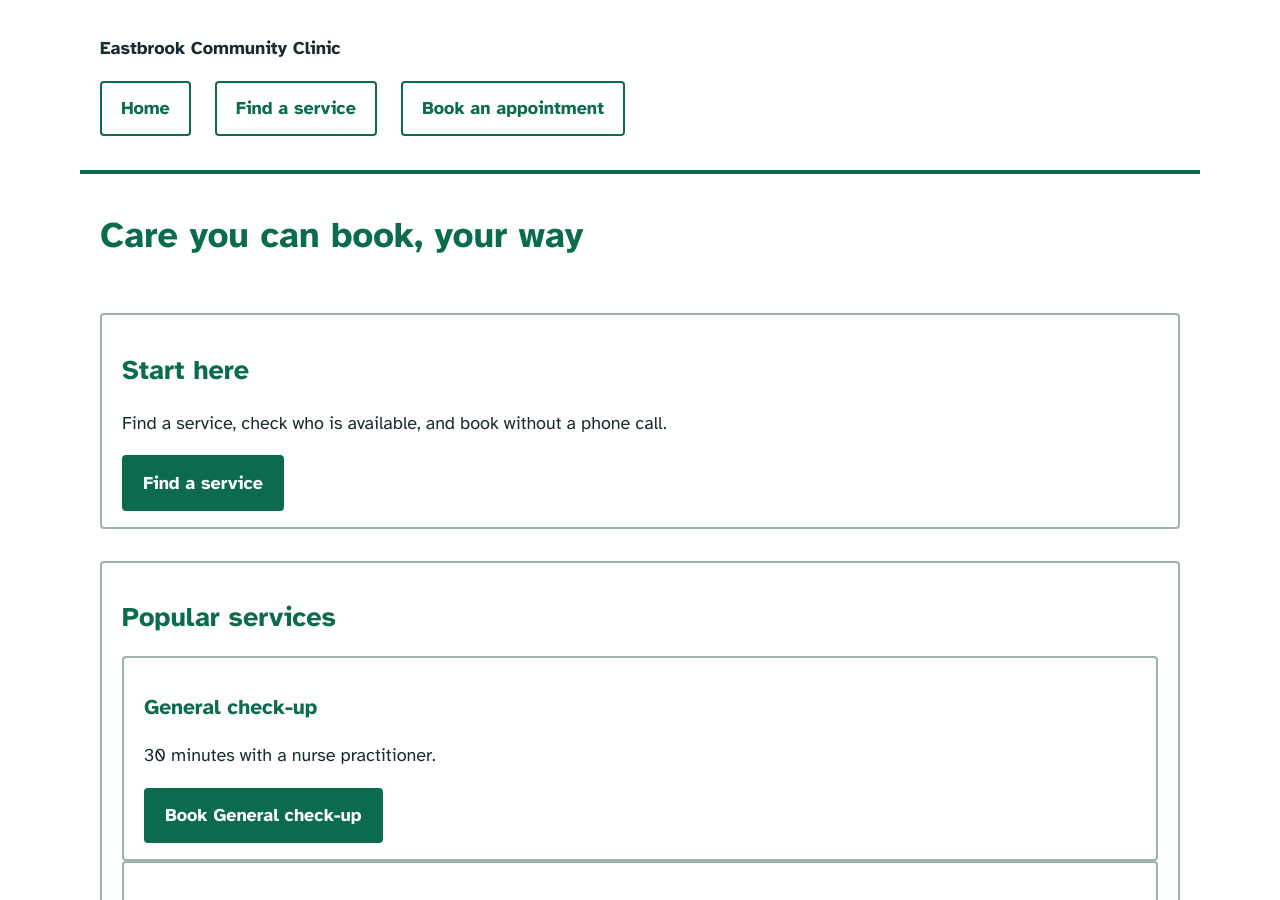
Test: directory › search narrows results and announces the count
Step 1. Click the button "Find a service" below "Eastbrook Community Clinic" → (296, 108), box [215,81,377,136]
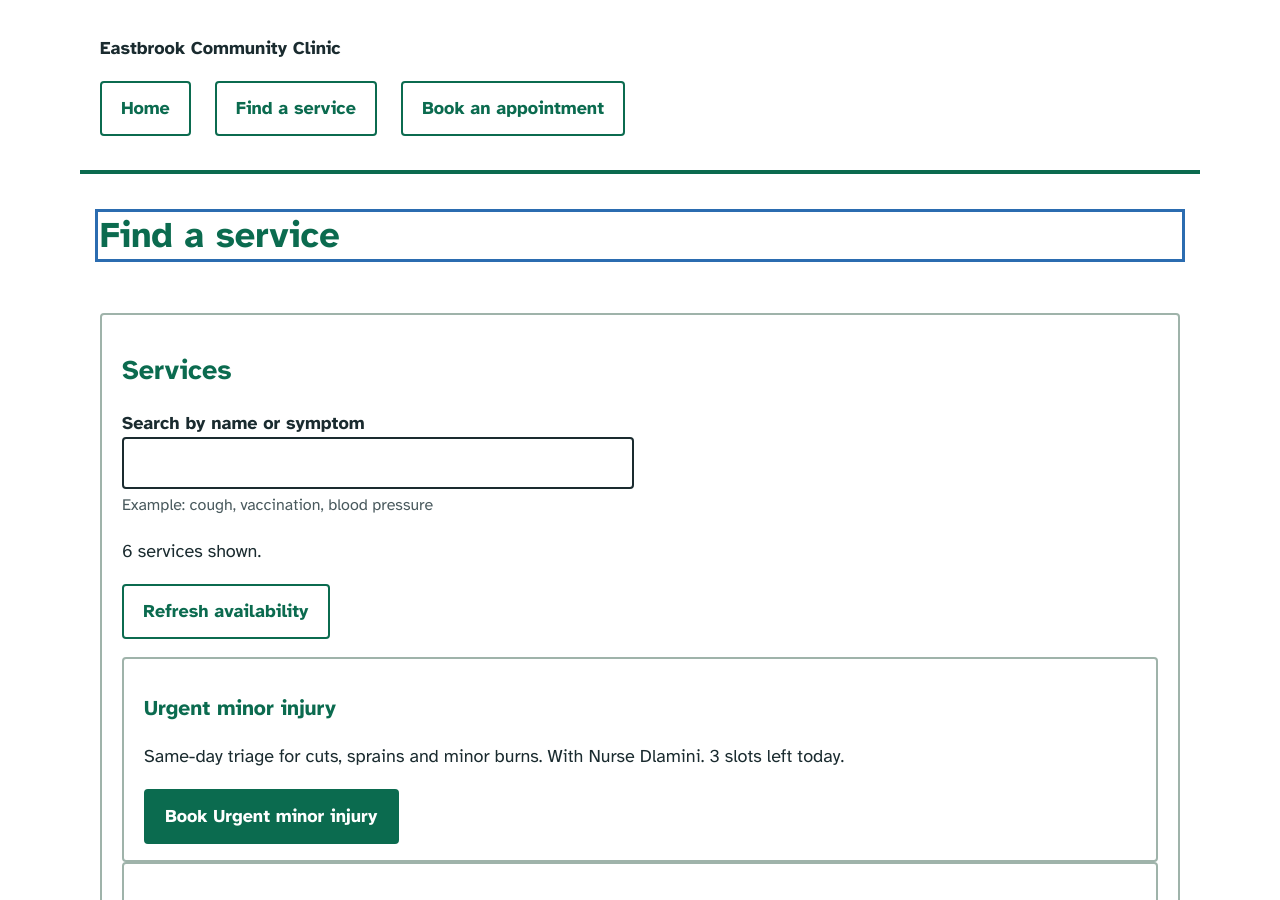
Step 2. Type "nurse" into the search field labelled "Search by name or symptom" → (378, 463), box [122,437,634,489]
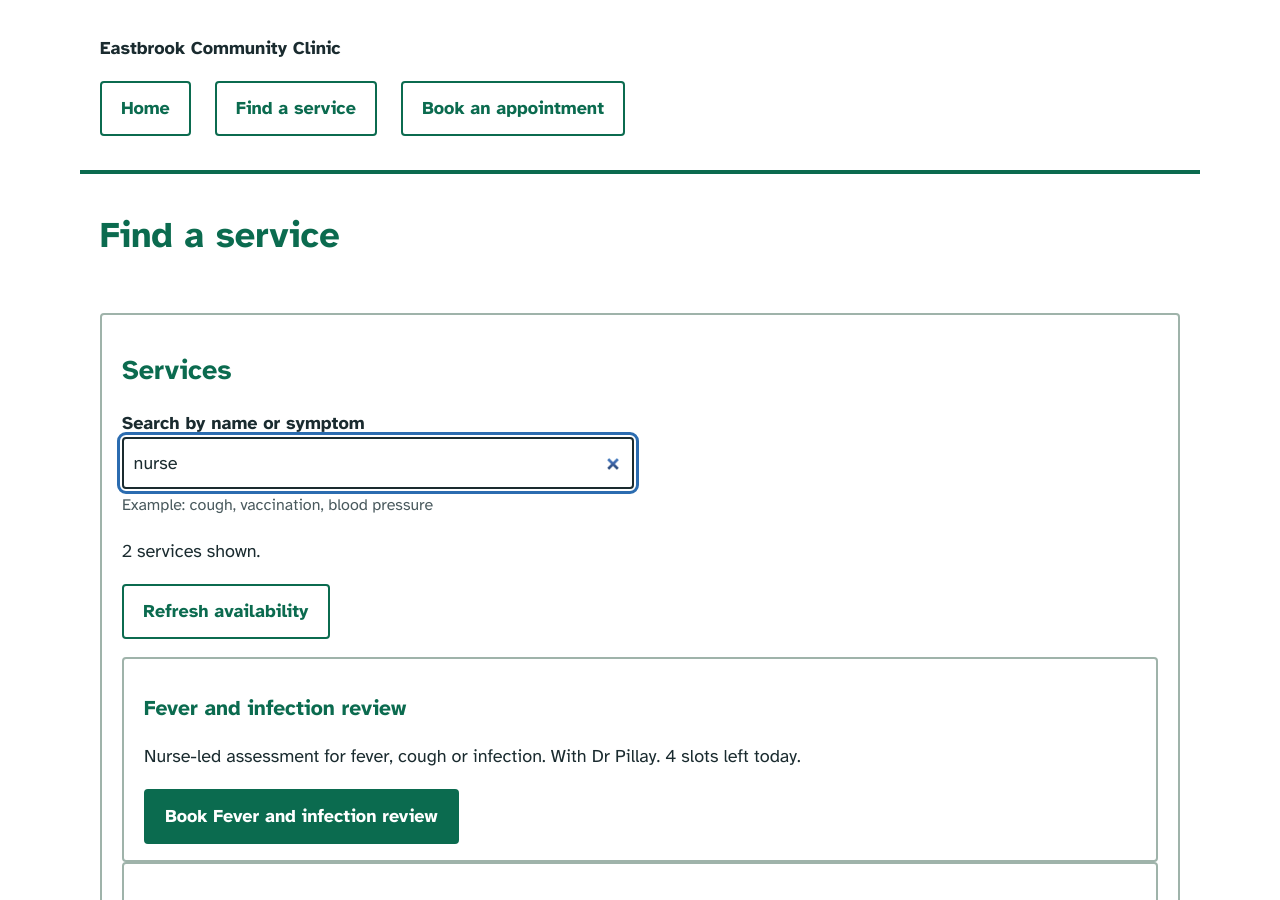
Expected: the message shows "2 services shown", [122,540,260,562]
